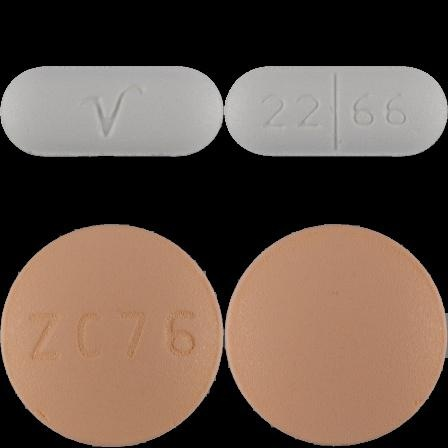53808-0889: (0, 0, 224, 224)
